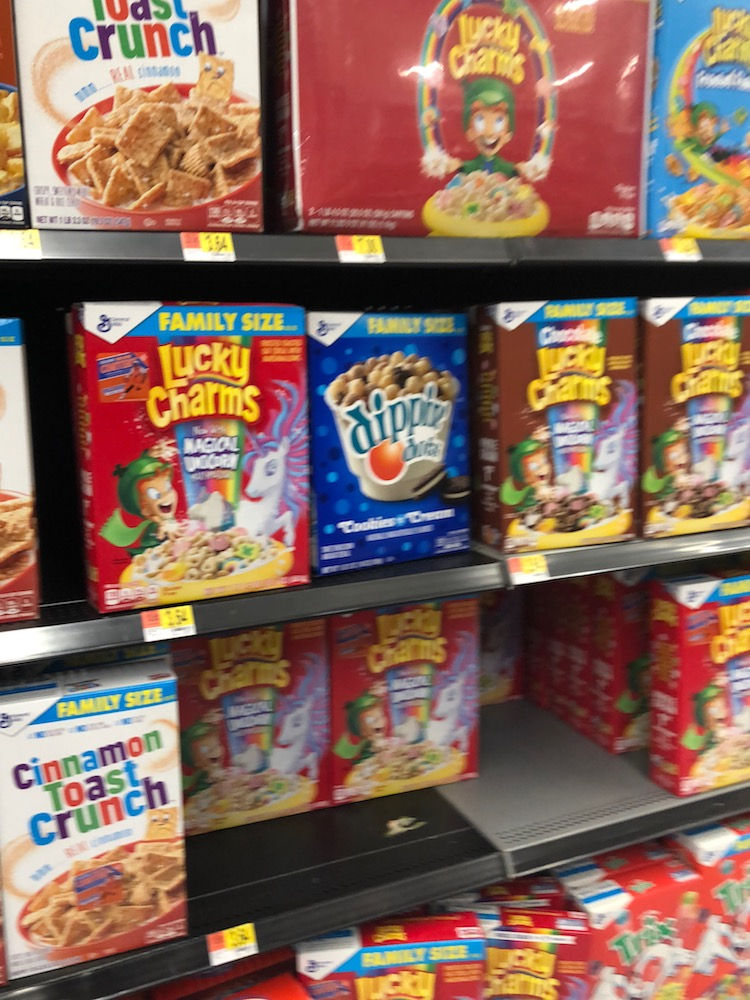Dippin Dots Cookies & Cream -568929378: (308, 314, 476, 560)
